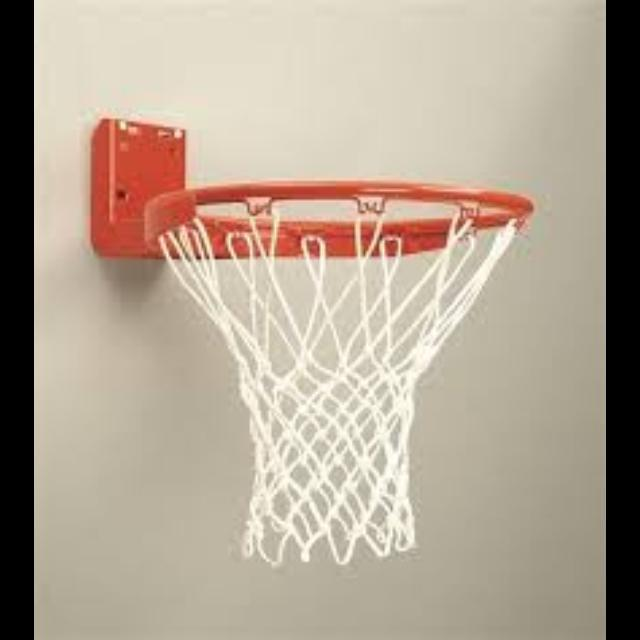rim: (144, 180, 536, 562)
